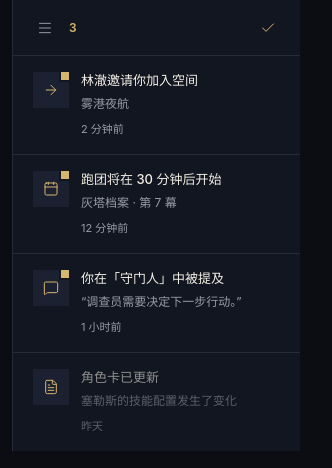
Test: notification panel › marks individual notifications as read
The width and height of the screenshot is (332, 468).
Expected: the text "3" is shown, [69,18,77,36]
Click the button with aria-label "未读：林澈邀请你加入空间" at {"x": 51, "y": 90}, box [13,56,300,154]
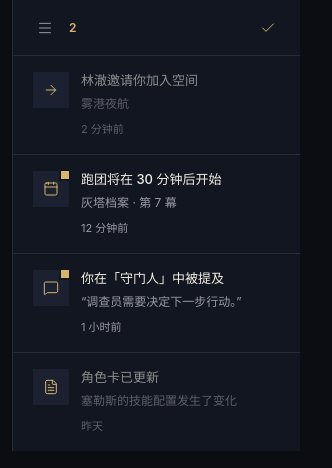
Expected: the text "2" is shown, [69,18,76,36]
Expected: the button with aria-label "已读：林澈邀请你加入空间" is shown, [13,56,300,154]
